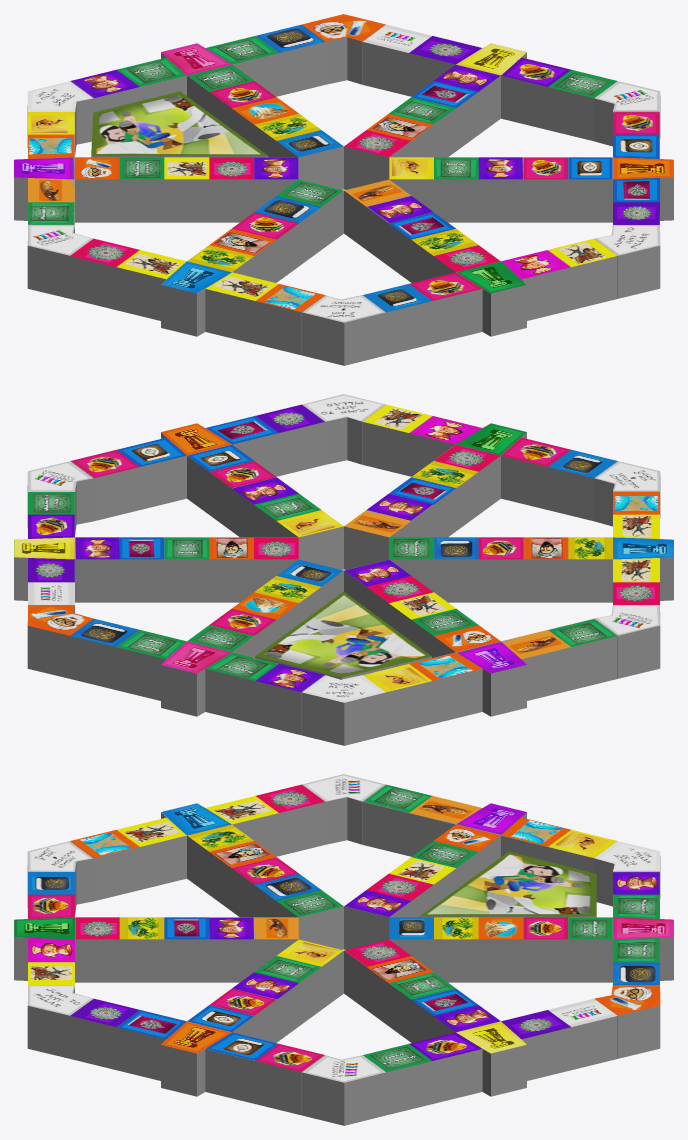
Rendered from GameBoard.FBX.
3 renders of one model, top to bottom at view 1: azimuth 30°, elevation 25°; view 2: azimuth 150°, elevation 25°; view 3: azimuth 270°, elevation 25°, orthographic.
Parts seen in each view (by area): view 1: Line01, box12, box10, box14, box6, box18, box9, box15, box34, box13, box7, box17 (+55 smaller); view 2: Line01, box24, box26, box22, box18, box30, box27, box21, box2, box10, box25, box1 (+55 smaller); view 3: Line01, box36, box34, box2, box30, box6, box33, box3, box14, box1, box13, box31 (+55 smaller).
Boxes of the visible parts, left/top/right/bottom form: Line01: left=91, top=91, right=268, bottom=157; box12: left=302, top=295, right=386, bottom=365; box10: left=409, top=272, right=482, bottom=343; box14: left=205, top=272, right=278, bottom=343; box6: left=594, top=225, right=660, bottom=298; box18: left=27, top=225, right=93, bottom=298; box9: left=456, top=261, right=526, bottom=336; box15: left=161, top=261, right=231, bottom=336; box34: left=501, top=57, right=570, bottom=129; box13: left=255, top=284, right=325, bottom=355; box7: left=548, top=238, right=617, bottom=310; box17: left=70, top=238, right=139, bottom=310; Line01: left=255, top=591, right=431, bottom=679; box24: left=302, top=675, right=386, bottom=745; box26: left=205, top=652, right=278, bottom=723; box22: left=409, top=652, right=482, bottom=723; box18: left=594, top=605, right=660, bottom=678; box30: left=27, top=605, right=93, bottom=678; box27: left=161, top=641, right=231, bottom=716; box21: left=456, top=641, right=526, bottom=716; box2: left=117, top=437, right=186, bottom=509; box10: left=501, top=437, right=570, bottom=509; box25: left=255, top=664, right=325, bottom=735; box1: left=70, top=449, right=139, bottom=521; Line01: left=419, top=851, right=596, bottom=917; box36: left=302, top=1055, right=386, bottom=1125; box34: left=409, top=1032, right=482, bottom=1103; box2: left=205, top=1032, right=278, bottom=1103; box30: left=594, top=985, right=660, bottom=1058; box6: left=27, top=985, right=93, bottom=1058; box33: left=456, top=1021, right=526, bottom=1096; box3: left=161, top=1021, right=231, bottom=1096; box14: left=117, top=817, right=186, bottom=889; box1: left=255, top=1044, right=325, bottom=1115; box13: left=70, top=829, right=139, bottom=901; box31: left=548, top=998, right=617, bottom=1070.
Bounding box in the file's own units: 234 × 15.24 × 212.
